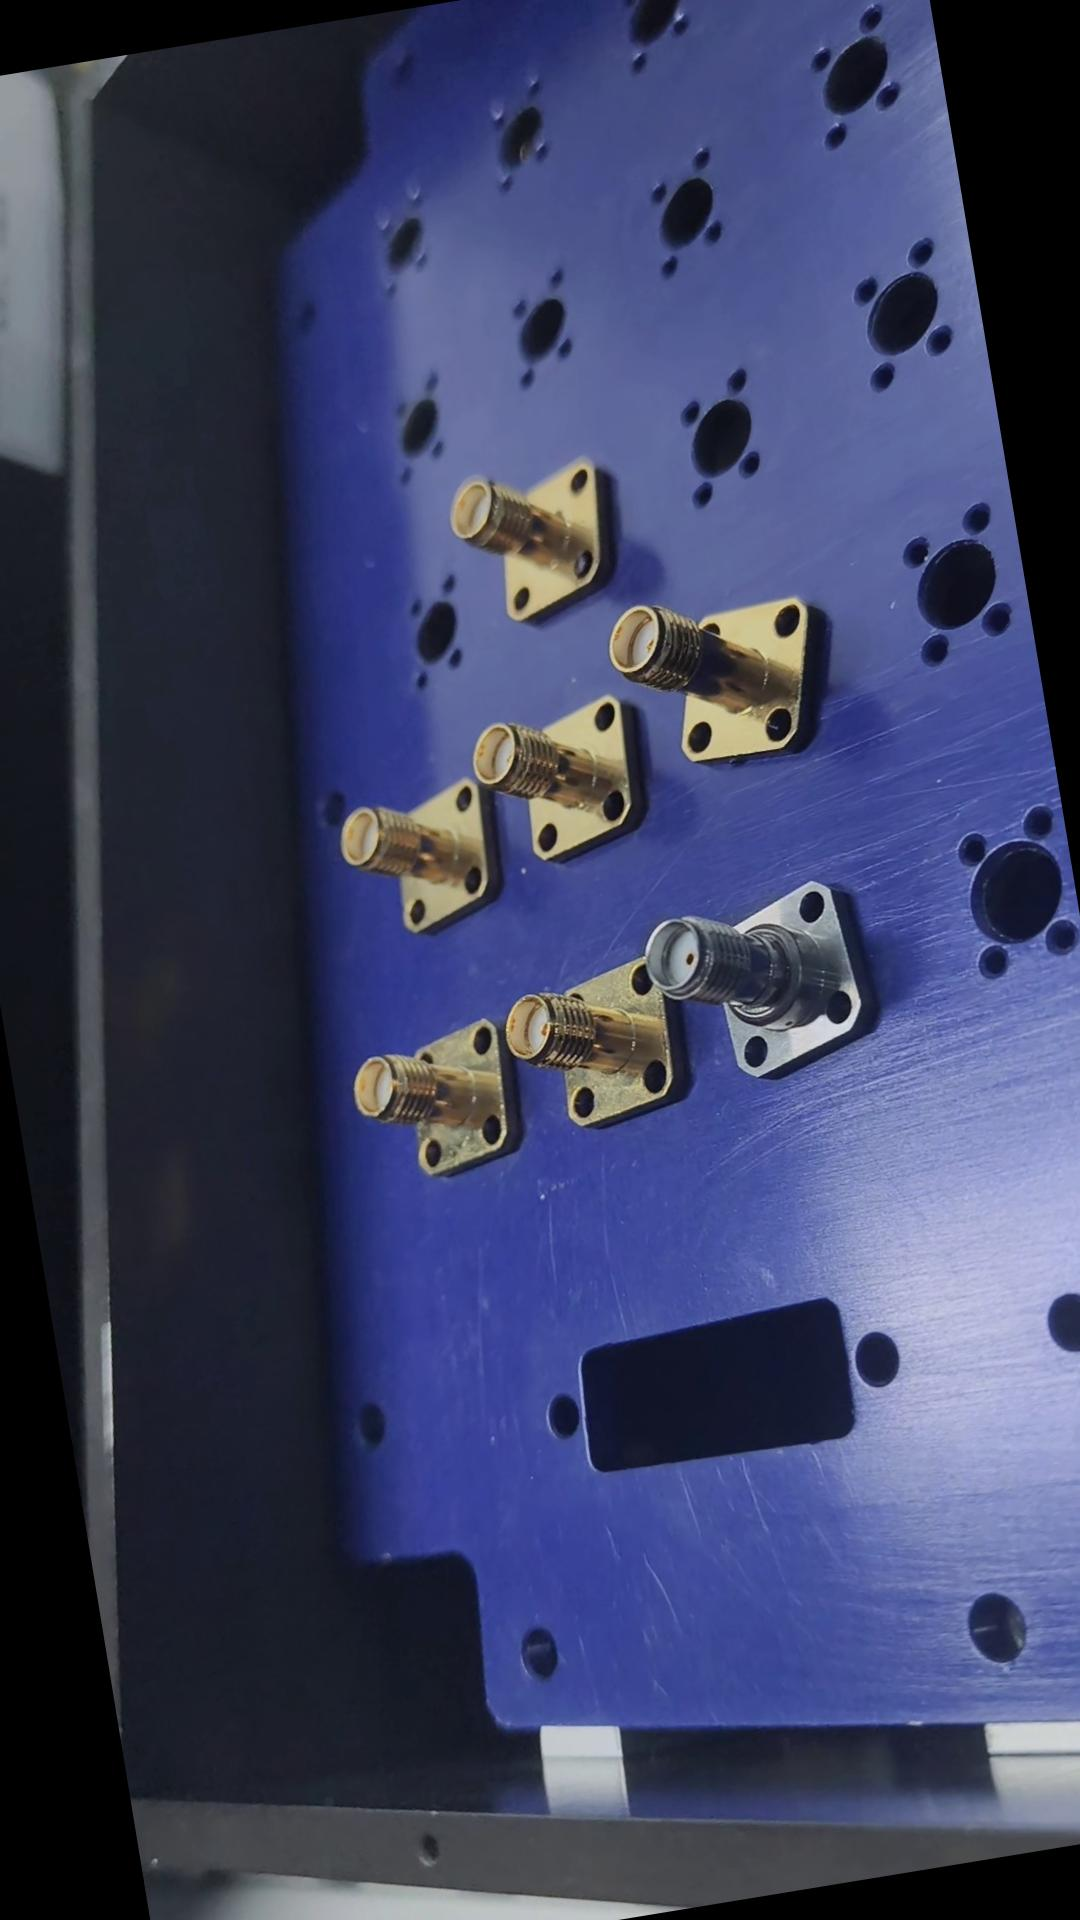SMA: (640, 872, 887, 1095), (604, 571, 837, 778), (497, 953, 687, 1139), (342, 1010, 531, 1193), (462, 694, 653, 869), (440, 452, 626, 625), (332, 774, 509, 943)
